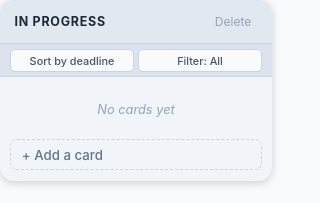
ListColumn — sort by deadline (Task D) › sort toggle shows active label when on
Expected: the text "No cards yet" is shown, [97,102,175,117]
Step 1. Click the button "Sort by deadline" → {"x": 72, "y": 61}, box [10,49,134,72]
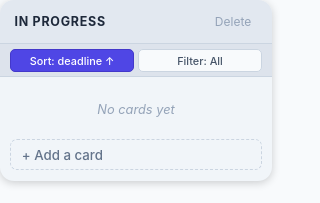
Now the button "Sort: deadline ↑" is shown, box [10,49,134,72]
